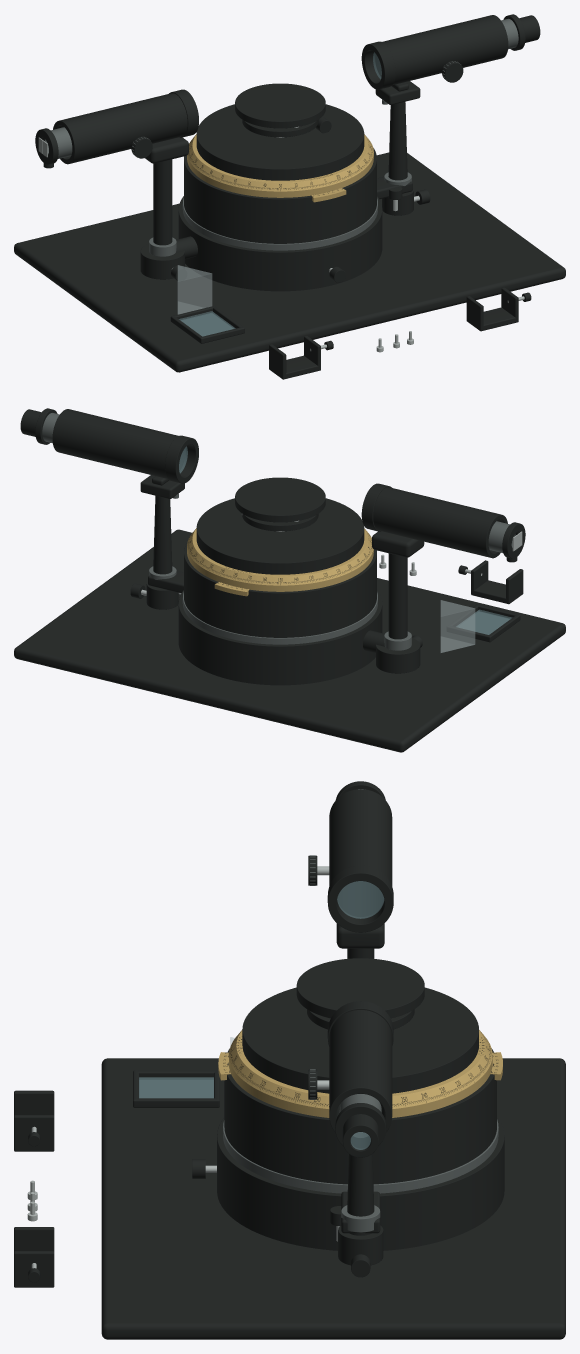
Rendered from INS0279.glb.
The picture shows the model from 3 angles, top to bottom: view 1: azimuth 30°, elevation 25°; view 2: azimuth 150°, elevation 25°; view 3: azimuth 270°, elevation 25°; orthographic projection. The views are drawn at different scales.
Parts seen in each view (by area): view 1: Rounded rectangular black base, Main fixed drum, Upper black turntable, Lower fixed drum, Collimator main hollow barrel, Ocular telescope main hollow barrel, Specimen platform 85.5mm, Stationary brass scale band, Tube support post -1, Telescope lower rotating bearing, Loose triangular 38mm prism, Tube support post 1 (+15 smaller); view 2: Rounded rectangular black base, Main fixed drum, Upper black turntable, Lower fixed drum, Collimator main hollow barrel, Ocular telescope main hollow barrel, Specimen platform 85.5mm, Stationary brass scale band, Tube support post -1, Loose triangular 38mm prism, Telescope lower rotating bearing, Tube support post 1 (+14 smaller); view 3: Rounded rectangular black base, Main fixed drum, Lower fixed drum, Upper black turntable, Collimator main hollow barrel, Specimen platform 85.5mm, Ocular telescope main hollow barrel, Stationary brass scale band, Telescope lower rotating bearing, Collimator inner objective collar, Loose grating substrate, Tube support post 1 (+13 smaller).
Part boxes in pixels (left/top/right/bottom): Rounded rectangular black base: left=14, top=152, right=565, bottom=372; Main fixed drum: left=184, top=148, right=376, bottom=243; Upper black turntable: left=196, top=104, right=364, bottom=180; Lower fixed drum: left=178, top=196, right=382, bottom=291; Collimator main hollow barrel: left=53, top=93, right=187, bottom=164; Ocular telescope main hollow barrel: left=376, top=15, right=508, bottom=84; Specimen platform 85.5mm: left=235, top=83, right=325, bottom=128; Stationary brass scale band: left=187, top=134, right=373, bottom=197; Tube support post -1: left=153, top=159, right=172, bottom=245; Telescope lower rotating bearing: left=182, top=197, right=377, bottom=250; Loose triangular 38mm prism: left=177, top=265, right=212, bottom=314; Tube support post 1: left=388, top=102, right=407, bottom=180; Rounded rectangular black base: left=14, top=529, right=565, bottom=752; Main fixed drum: left=184, top=542, right=376, bottom=637; Upper black turntable: left=196, top=498, right=364, bottom=574; Lower fixed drum: left=178, top=590, right=382, bottom=685; Collimator main hollow barrel: left=373, top=487, right=507, bottom=558; Ocular telescope main hollow barrel: left=52, top=409, right=184, bottom=478; Specimen platform 85.5mm: left=235, top=477, right=325, bottom=522; Stationary brass scale band: left=187, top=528, right=373, bottom=591; Tube support post -1: left=388, top=553, right=407, bottom=639; Loose triangular 38mm prism: left=440, top=600, right=475, bottom=652; Telescope lower rotating bearing: left=182, top=591, right=377, bottom=644; Tube support post 1: left=153, top=495, right=172, bottom=574; Rounded rectangular black base: left=101, top=1058, right=565, bottom=1339; Main fixed drum: left=224, top=1048, right=496, bottom=1184; Lower fixed drum: left=217, top=1117, right=504, bottom=1250; Upper black turntable: left=242, top=987, right=478, bottom=1093; Collimator main hollow barrel: left=329, top=789, right=392, bottom=916; Specimen platform 85.5mm: left=296, top=958, right=424, bottom=1018; Ocular telescope main hollow barrel: left=329, top=1010, right=392, bottom=1132; Stationary brass scale band: left=229, top=1030, right=492, bottom=1117; Telescope lower rotating bearing: left=223, top=1119, right=498, bottom=1193; Collimator inner objective collar: left=327, top=865, right=393, bottom=932; Loose grating substrate: left=139, top=1077, right=213, bottom=1098; Tube support post 1: left=347, top=1154, right=374, bottom=1235.
Size of the model in its own units: 0.5345 by 0.202 by 0.3685.
